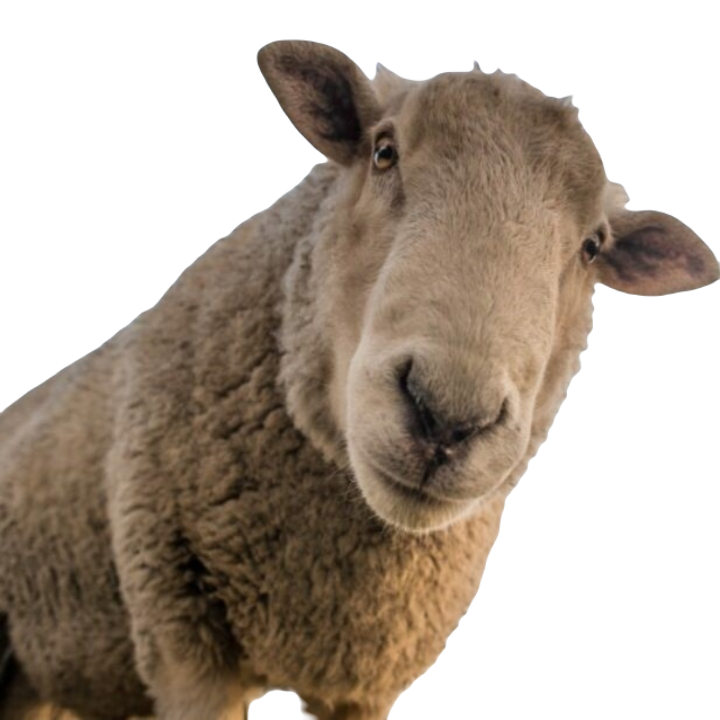Sheep: (0, 37, 719, 719)
